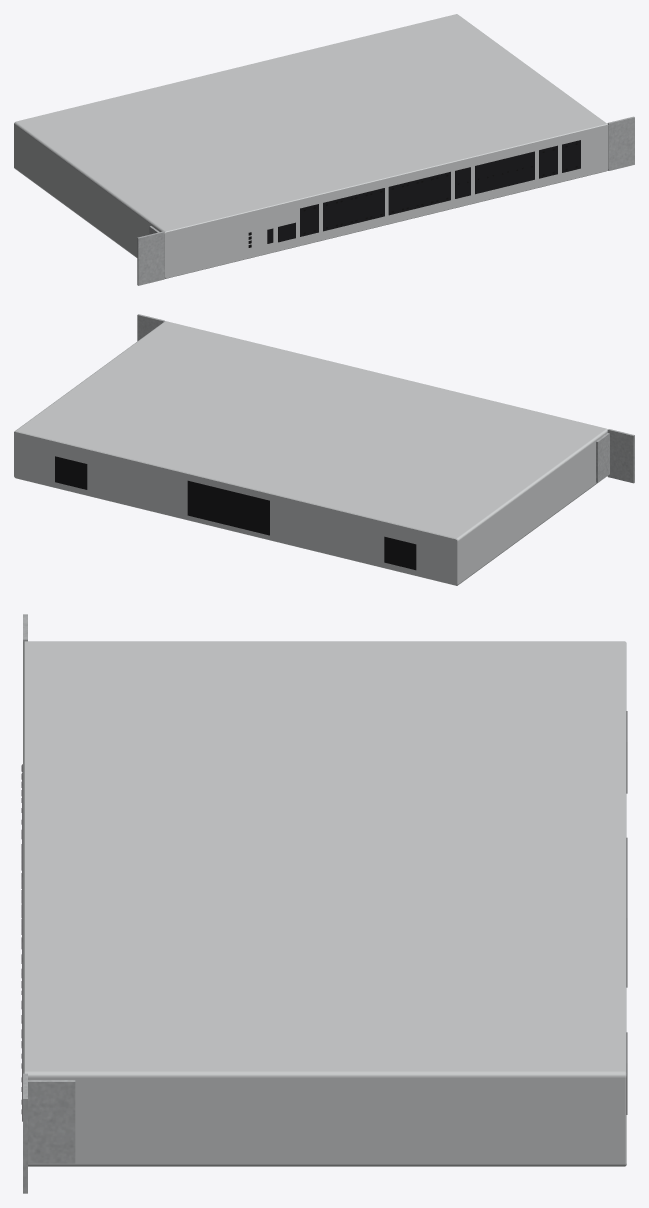
File: FG-100F.far.glb
3 views of the same model, one above another, from view 1: azimuth 30°, elevation 25°; view 2: azimuth 150°, elevation 25°; view 3: azimuth 270°, elevation 25° (orthographic). The views are drawn at different scales.
Visible parts, largest first — view 1: Shell_far; view 2: Shell_far; view 3: Shell_far.
Part boxes in pixels (box(x1,y1,x2,y2)): Shell_far: box(14, 14, 634, 285); Shell_far: box(14, 314, 634, 585); Shell_far: box(22, 614, 627, 1193).
Size of the model in its own units: 0.4826 by 0.044 by 0.2548.
Materials: 3 (2 with a texture image).
